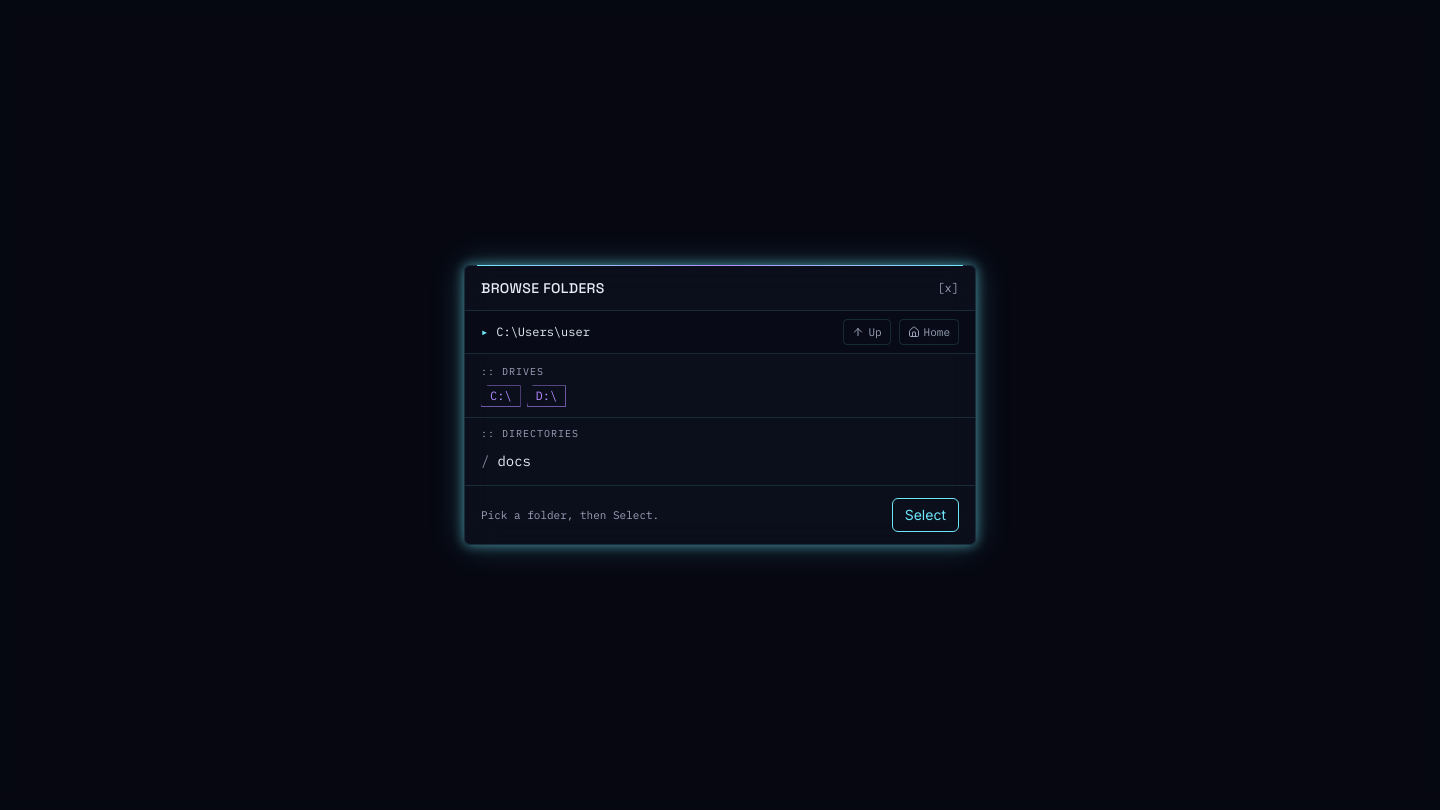
Scenario: FolderBrowserModal › renders drive chips when drives are provided and navigates to a drive on click
Expected: the text with test id "browse-current-path" reads "C:\\Users\\user", x1=496 y1=324 x2=590 y2=339
Expected: the button "C:\\" is shown, x1=481 y1=385 x2=521 y2=407
Click the button "D:\\". click: {"x": 546, "y": 396}
box: x1=527 y1=385 x2=566 y2=407
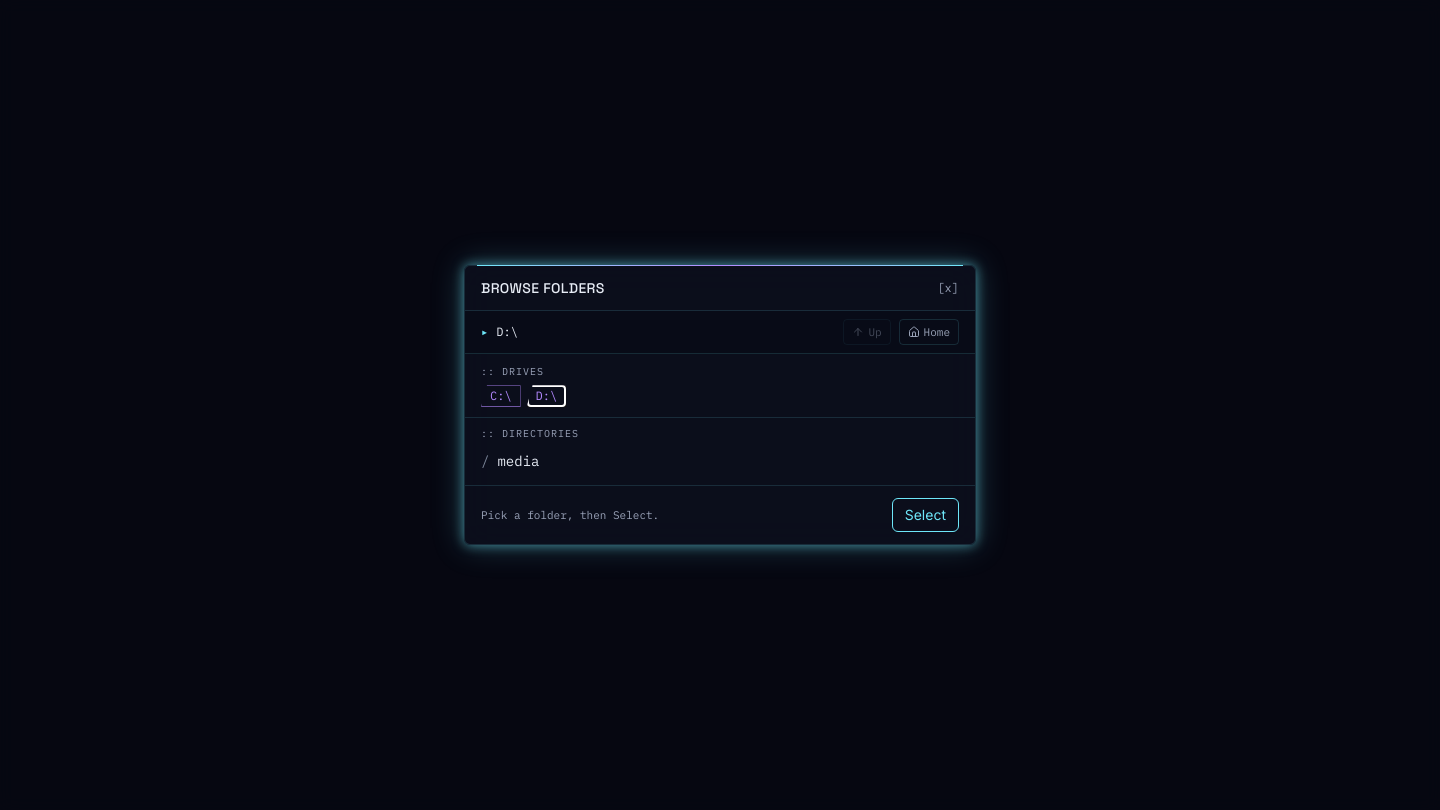
Expected: the text with test id "browse-current-path" reads "D:\\", x1=496 y1=324 x2=518 y2=339
